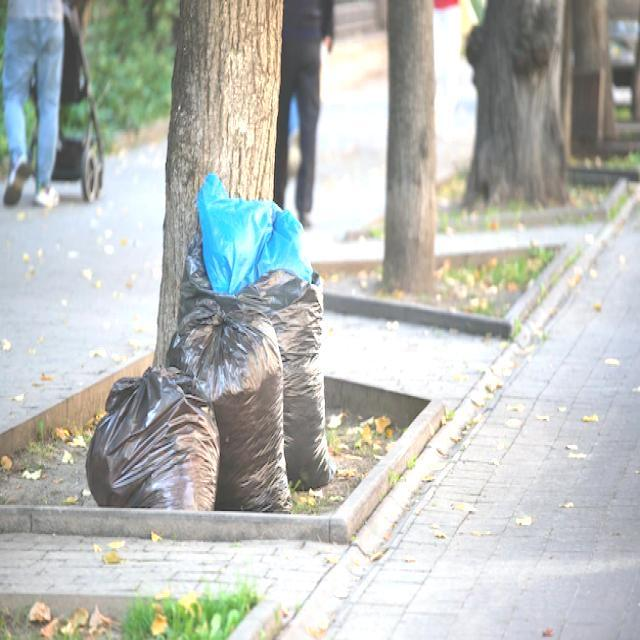high trash: (88, 174, 334, 512)
